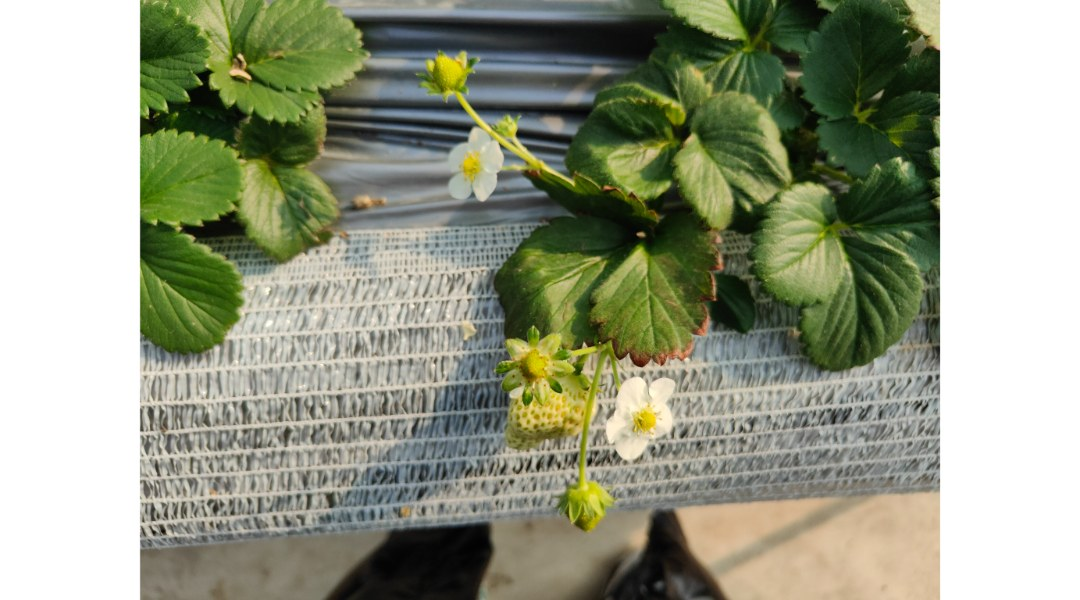berry: (505, 372, 603, 453), (493, 325, 584, 396), (552, 480, 619, 537), (418, 42, 480, 103), (496, 110, 520, 142)
flower: (600, 370, 685, 465), (441, 127, 501, 215)
strain: (459, 92, 583, 191), (574, 353, 605, 482)
